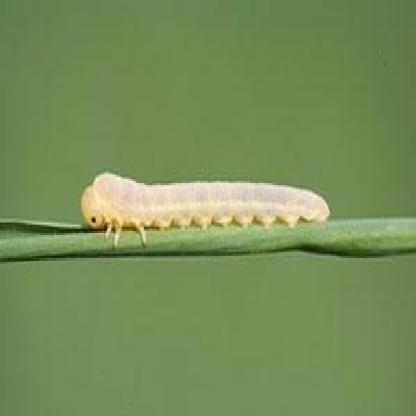sawfly: (77, 164, 336, 255)
